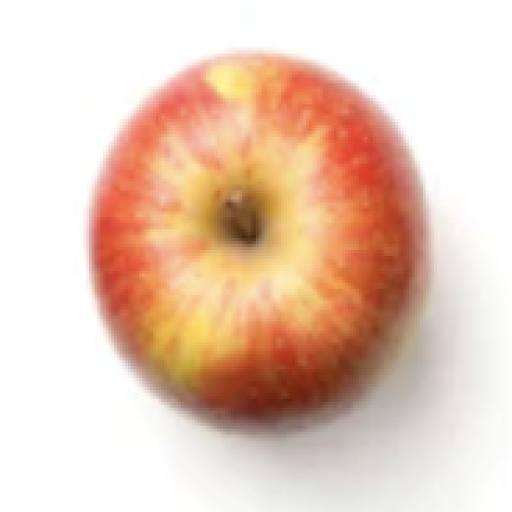apple: (92, 54, 425, 419)
